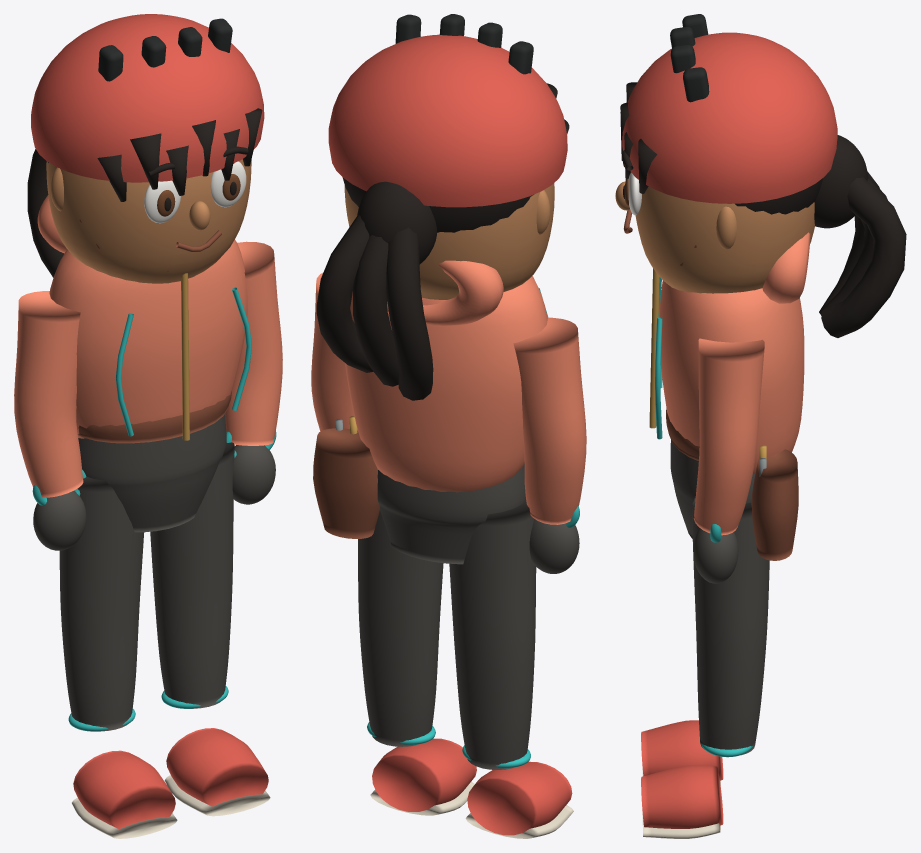
Rendered from asha.glb.
The picture shows the model from 3 angles, left to right: view 1: azimuth 30°, elevation 25°; view 2: azimuth 150°, elevation 25°; view 3: azimuth 270°, elevation 25°; orthographic projection. The views are drawn at different scales.
Parts seen in each view (by area): view 1: asha_helmet_shell, asha_jacket_body, asha_leg_l, asha_leg_r, asha_head, asha_arm_l, asha_pelvis, asha_arm_r, asha_shoe_l, asha_shoe_r, asha_waist_band, asha_glove_l (+20 smaller); view 2: asha_helmet_shell, asha_jacket_body, asha_leg_l, asha_leg_r, asha_arm_l, asha_pelvis, asha_head, asha_tool_pouch, asha_ponytail_lock_00, asha_shoe_l, asha_shoe_r, asha_ponytail_lock_02 (+11 smaller); view 3: asha_helmet_shell, asha_jacket_body, asha_leg_r, asha_head, asha_arm_r, asha_ponytail_lock_02, asha_shoe_r, asha_tool_pouch, asha_shoe_l, asha_ponytail_root, asha_hood, asha_glove_r (+12 smaller).
Part boxes in pixels (x1,y1,x2,y2): asha_helmet_shell: (31, 14, 264, 182); asha_jacket_body: (49, 239, 247, 438); asha_leg_l: (59, 477, 144, 731); asha_leg_r: (150, 442, 234, 708); asha_head: (46, 159, 251, 283); asha_arm_l: (14, 291, 83, 497); asha_pelvis: (78, 414, 226, 532); asha_arm_r: (225, 241, 282, 445); asha_shoe_l: (73, 750, 175, 828); asha_shoe_r: (166, 728, 268, 806); asha_waist_band: (78, 391, 231, 443); asha_glove_l: (33, 490, 86, 550); asha_helmet_shell: (328, 34, 567, 207); asha_jacket_body: (345, 276, 547, 492); asha_leg_l: (449, 500, 536, 769); asha_leg_r: (358, 510, 443, 746); asha_arm_l: (513, 317, 586, 524); asha_pelvis: (377, 464, 525, 564); asha_head: (344, 183, 554, 299); asha_tool_pouch: (313, 428, 379, 538); asha_ponytail_lock_00: (386, 227, 433, 400); asha_shoe_l: (467, 761, 572, 835); asha_shoe_r: (372, 738, 476, 811); asha_ponytail_lock_02: (316, 215, 373, 372); asha_helmet_shell: (622, 32, 837, 203); asha_jacket_body: (659, 280, 804, 473); asha_leg_r: (692, 498, 769, 755); asha_head: (635, 186, 814, 293); asha_arm_r: (693, 338, 764, 535); asha_ponytail_lock_02: (821, 177, 906, 337); asha_shoe_r: (641, 765, 723, 828); asha_tool_pouch: (751, 449, 798, 560); asha_shoe_l: (641, 720, 723, 780); asha_ponytail_root: (814, 135, 868, 228); asha_hood: (762, 232, 810, 303); asha_glove_r: (693, 528, 738, 583).
Bounding box in the file's own units: 1.52 × 4.3 × 1.48.
